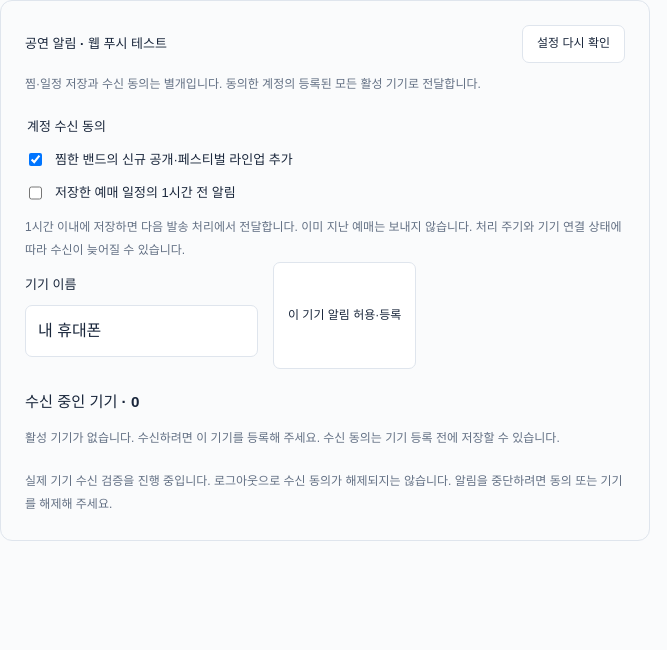
Scenario: register, test and revoke use the correct account/device; request success is not receipt
Expected: the checkbox labelled "저장한 예매 일정의 1시간 전 알림" is shown, [29, 186, 42, 201]
Step 1. Click the button "이 기기 알림 허용·등록" → (345, 315), box [273, 262, 416, 369]
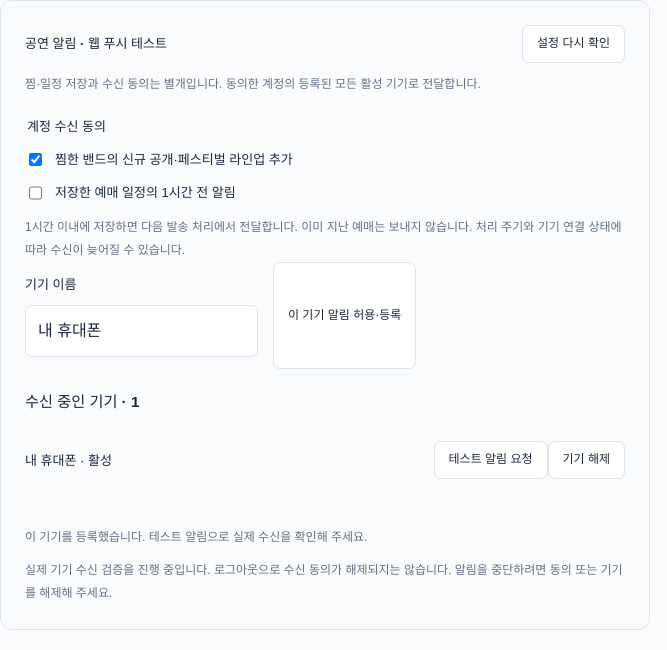
Expected: the text "내 휴대폰 · 활성" is shown, [25, 450, 112, 471]
Step 2. Click the button "테스트 알림 요청" → (490, 460), box [434, 441, 548, 479]
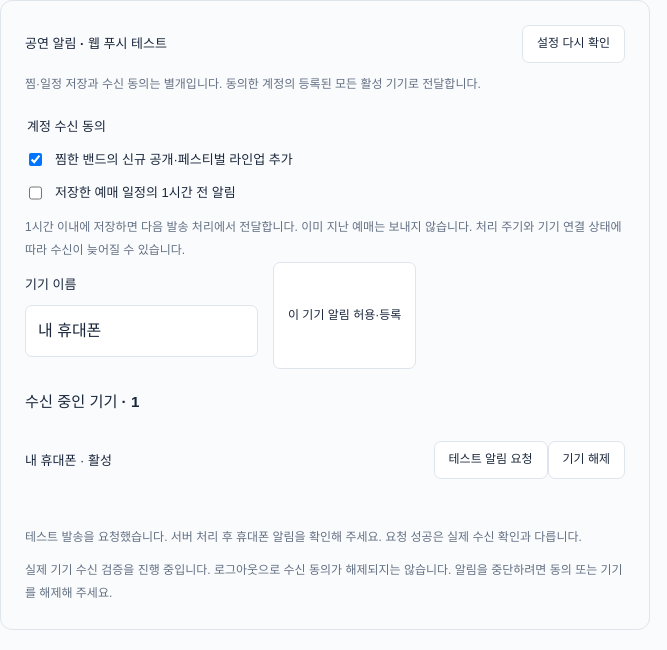
Expected: the text "테스트 발송을 요청했습니다. 서버 처리 후 휴대폰 알림을 확인해 주세요. 요청 성공은 실제 수신 확인과 다릅니다." is shown, [25, 526, 625, 549]
Step 3. Click the button "기기 해제" → (586, 460), box [548, 441, 625, 479]
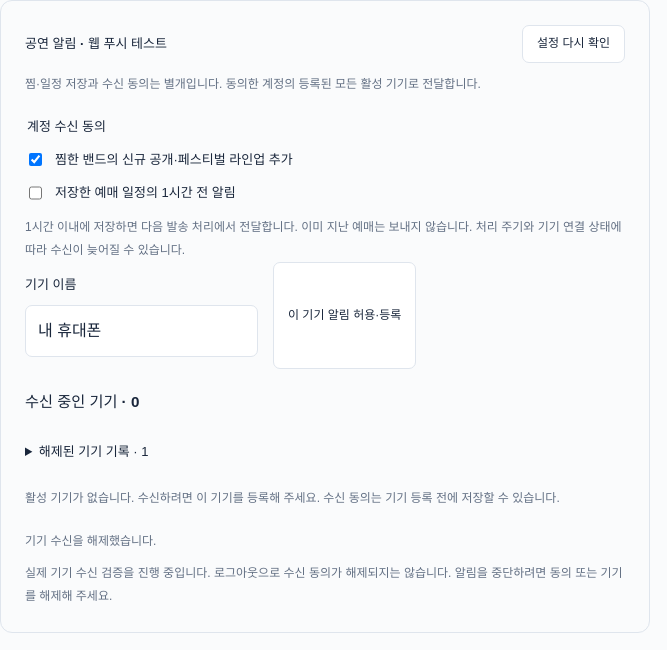
Expected: the button "테스트 알림 요청" is gone
Expected: the button "기기 해제" is gone
